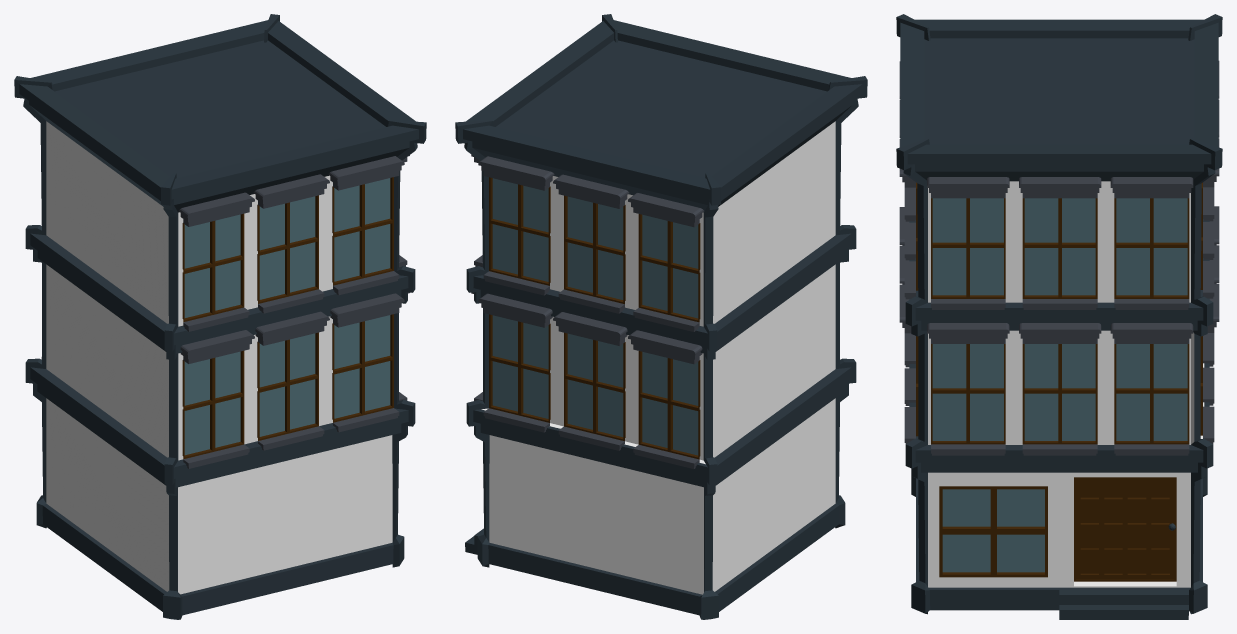
File: 3-Cookies&Cream.fbx
3 renders of one model, left to right at view 1: azimuth 30°, elevation 25°; view 2: azimuth 150°, elevation 25°; view 3: azimuth 270°, elevation 25°, orthographic. The views are drawn at different scales.
Visible parts, largest first — view 1: Cube.010; view 2: Cube.010; view 3: Cube.010.
Part boxes in pixels (<box>): Cube.010: <box>14,14,426,619</box>; Cube.010: <box>455,14,867,619</box>; Cube.010: <box>896,14,1222,619</box>.
Size of the model in its own units: 1421 by 1435 by 2274.
